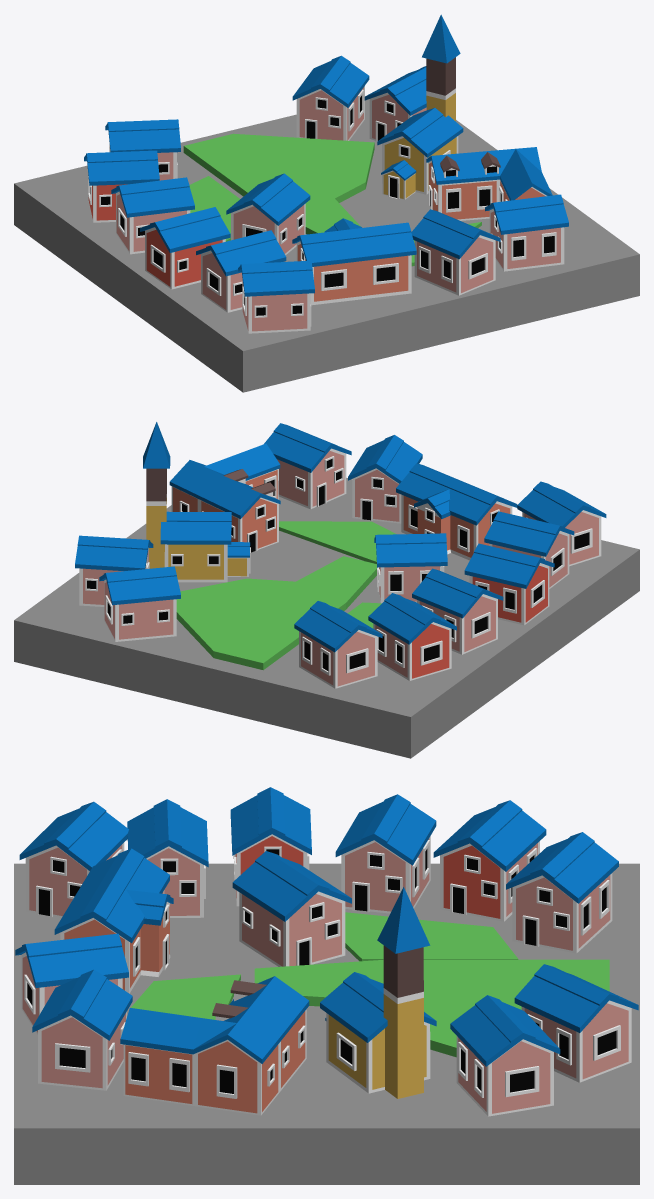
The picture shows the model from 3 angles, top to bottom: view 1: azimuth 30°, elevation 25°; view 2: azimuth 150°, elevation 25°; view 3: azimuth 270°, elevation 25°; orthographic projection. The views are drawn at different scales.
Visible parts, largest first — view 1: Mesh_2x2_V1; view 2: Mesh_2x2_V1; view 3: Mesh_2x2_V1.
Part boxes in pixels (x1=…): Mesh_2x2_V1: x1=14, y1=14, x2=639, y2=392; Mesh_2x2_V1: x1=14, y1=422, x2=639, y2=758; Mesh_2x2_V1: x1=14, y1=787, x2=639, y2=1184.
Bounding box in the file's own units: 200 × 91.95 × 200.
